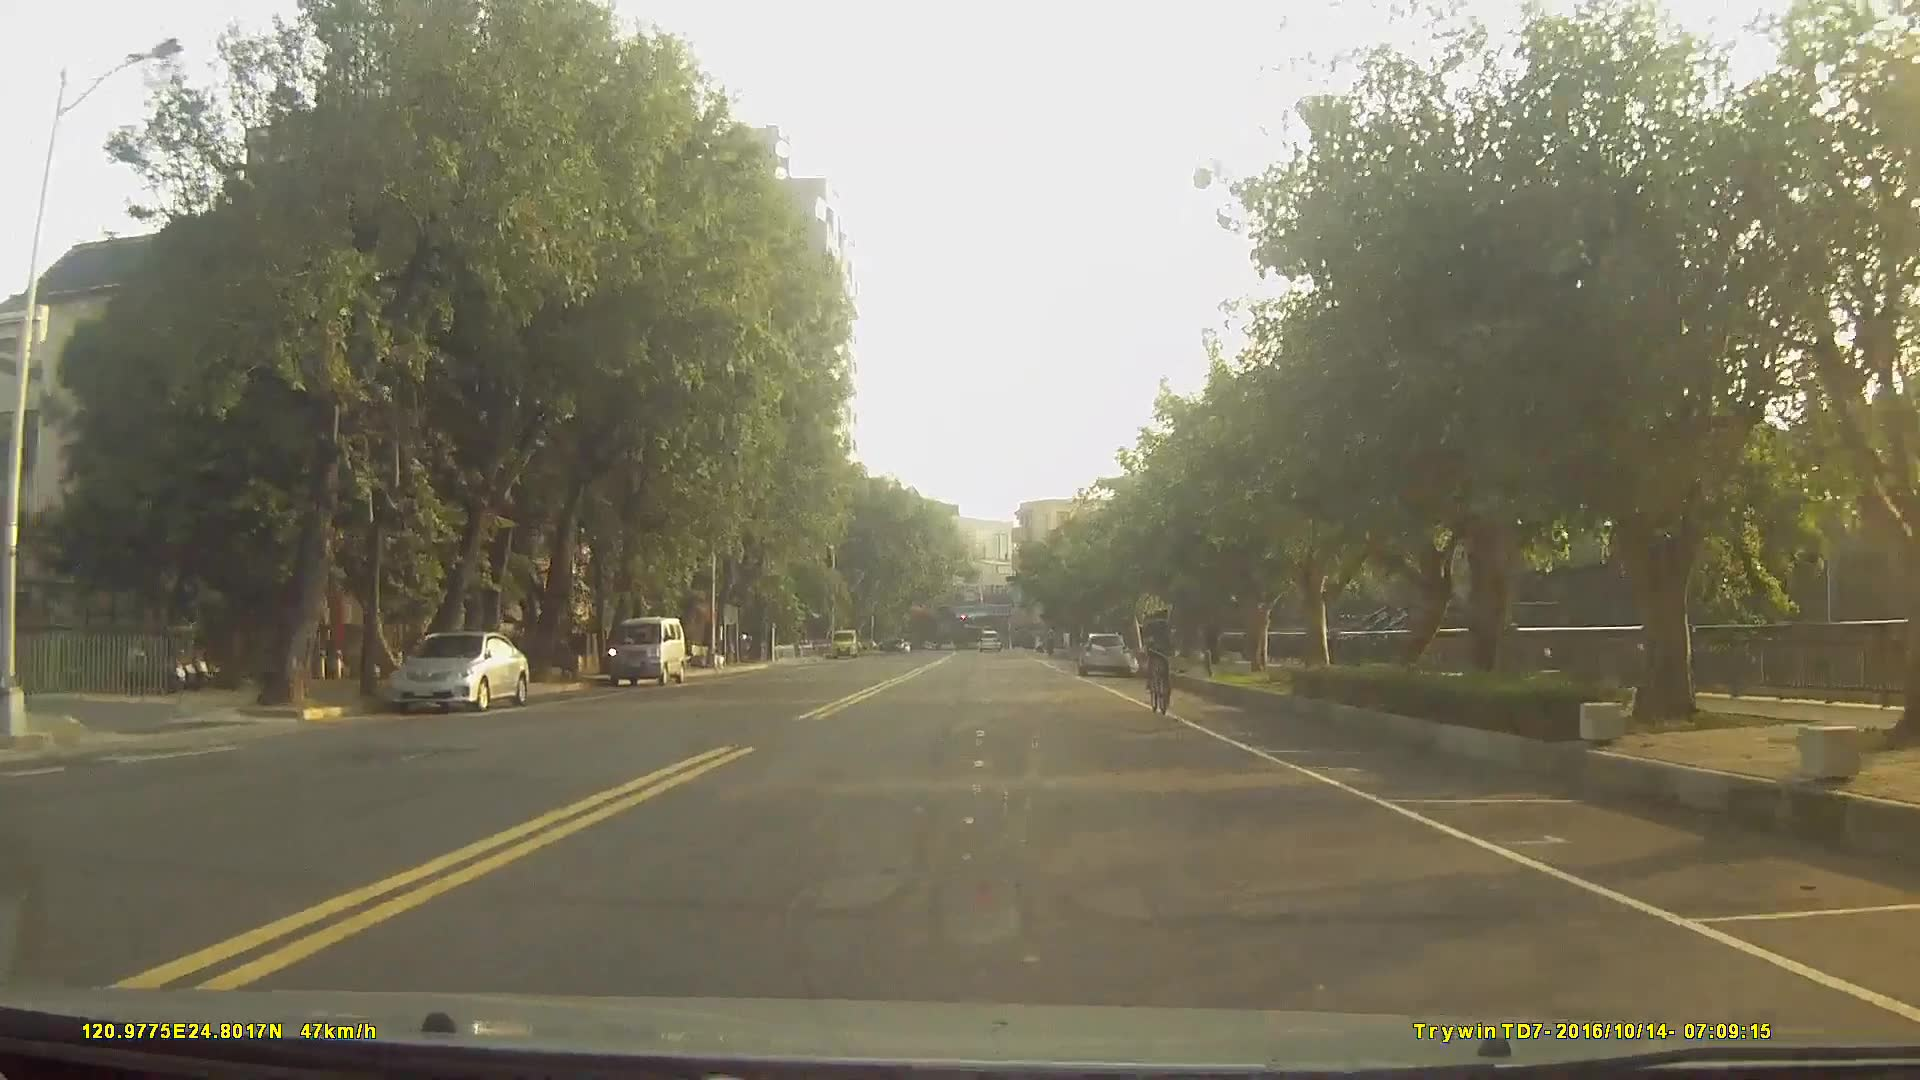rider: (1143, 604, 1180, 713)
vehicle: (385, 627, 529, 712), (607, 613, 687, 682), (1075, 628, 1130, 675), (977, 626, 1003, 653)
